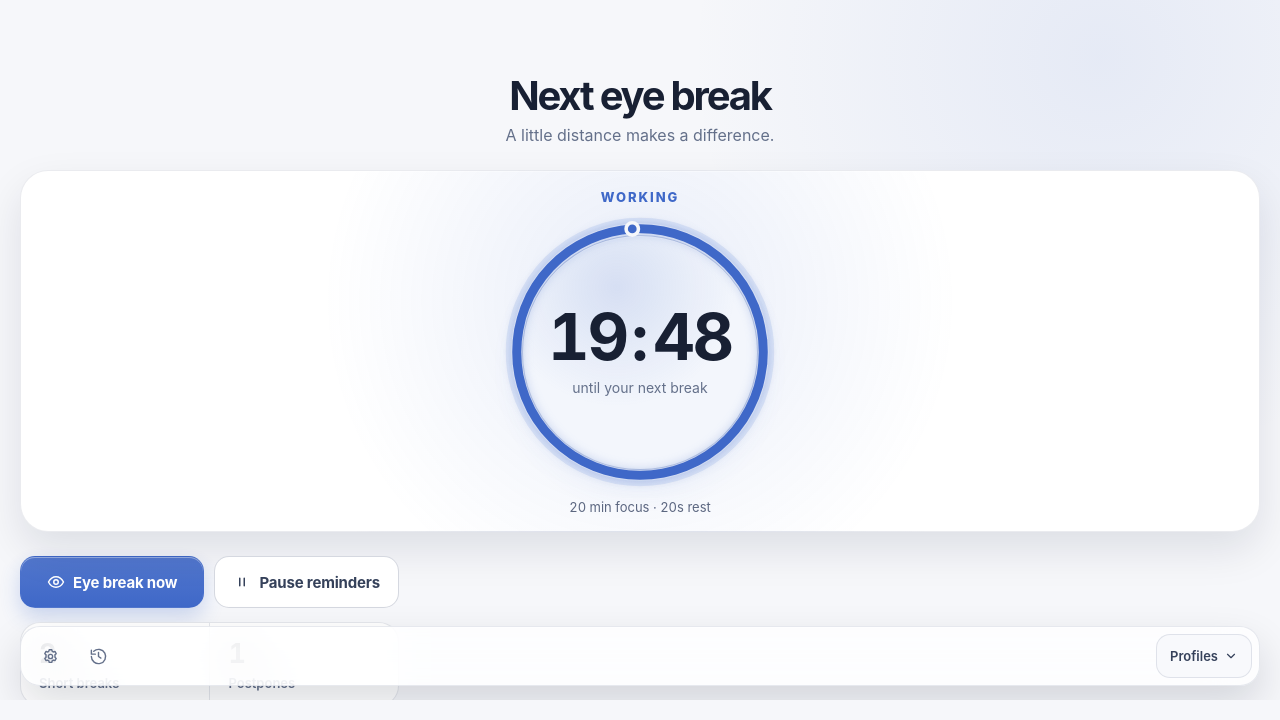
Test: PausIO app experience › uses phone-sized settings navigation and keeps the work interval available on iPhone
Click the button named "Settings" at [50, 656], box left=28, top=634, right=72, bottom=678
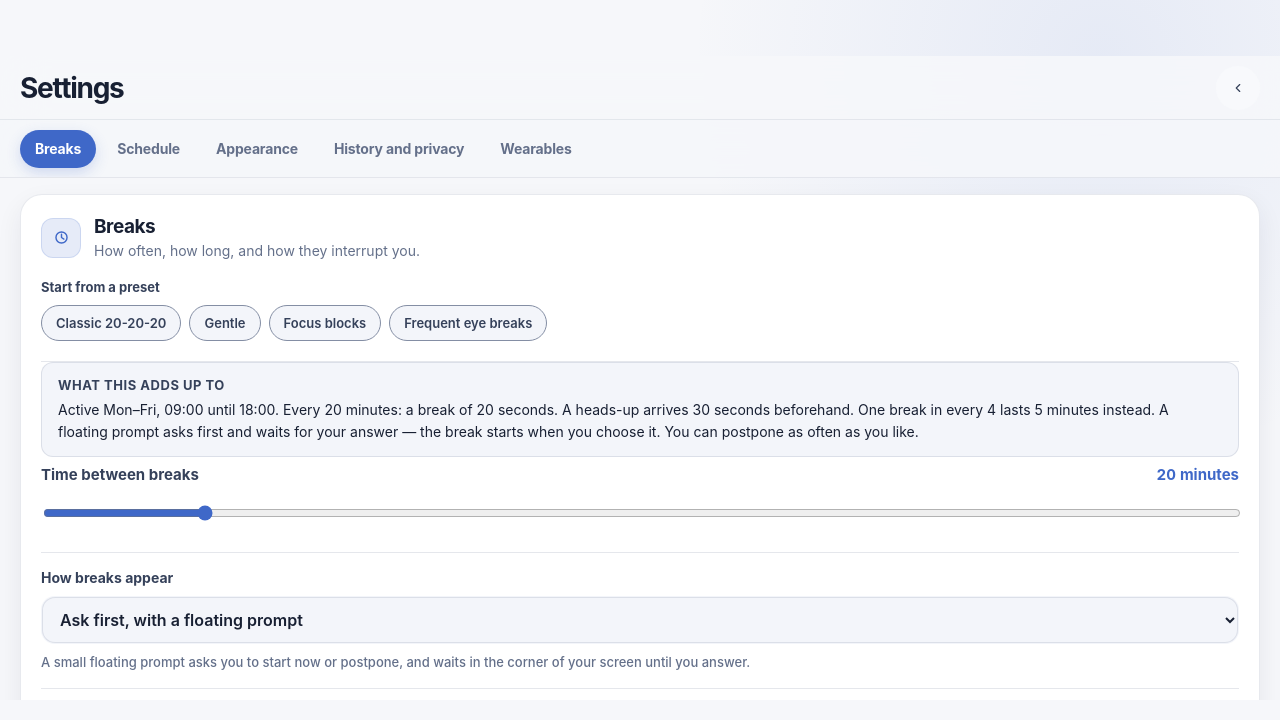
Expected: the navigation bar named "Settings categories" is shown, left=0, top=120, right=1279, bottom=178
Expected: the text "Time between breaks" is shown, left=41, top=465, right=199, bottom=484
